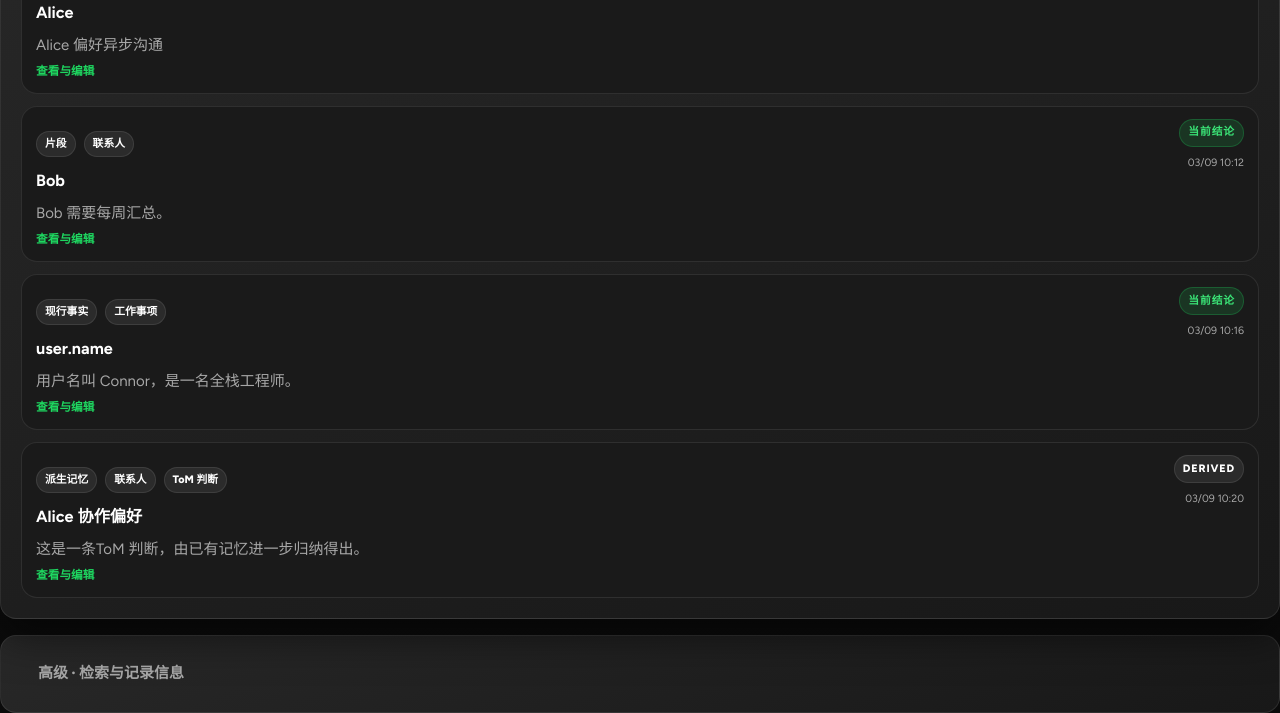
Test case: MemoryPage › 会过滤内部技术写回记录并展示派生细节
This screenshot has width=1280, height=713.
(page scrolled)
Click the button "Alice 协作偏好" at (640, 520), box left=21, top=442, right=1259, bottom=598
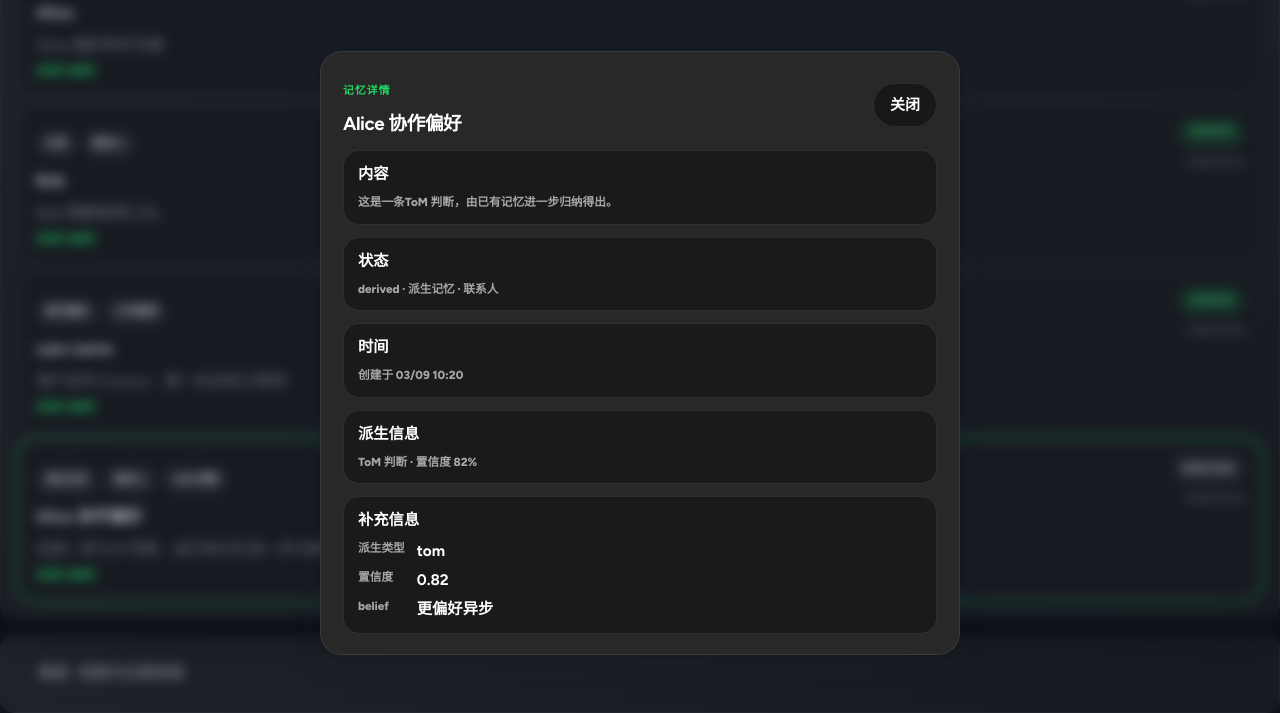
Expected: the dialog "Alice 协作偏好" is shown, left=320, top=51, right=960, bottom=655
Expected: the text "ToM 判断 · 置信度 82%" is shown, left=358, top=454, right=477, bottom=468
Expected: the text "更偏好异步" is shown, left=417, top=599, right=493, bottom=618
